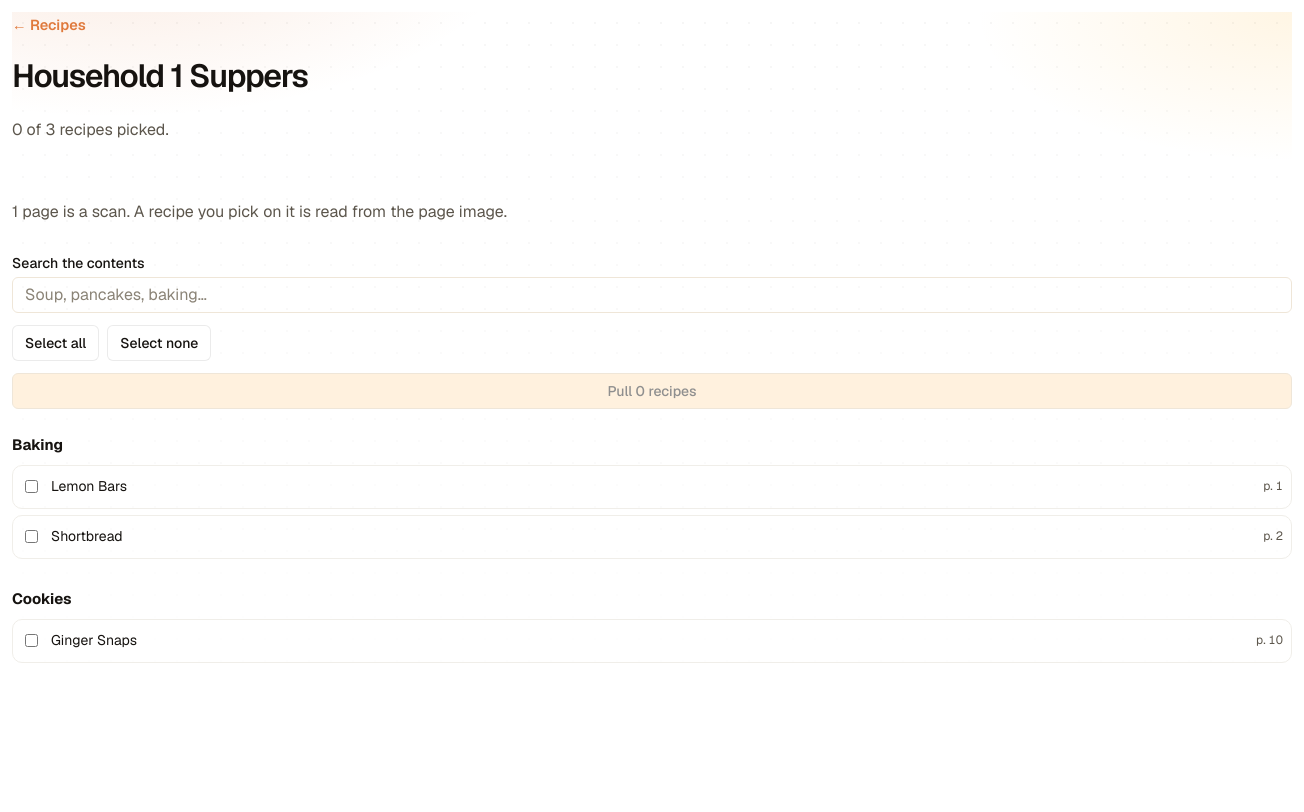
Test: BookContents picks › saves select-all, select-none, and a single toggle
Expected: the text "0 of 3 recipes picked." is shown, [12, 119, 169, 140]
Expected: the text "1 page is a scan. A recipe you pick on it is read from the page image." is shown, [12, 201, 507, 222]
Click the button "Select all" at [56, 343], box [12, 325, 99, 361]
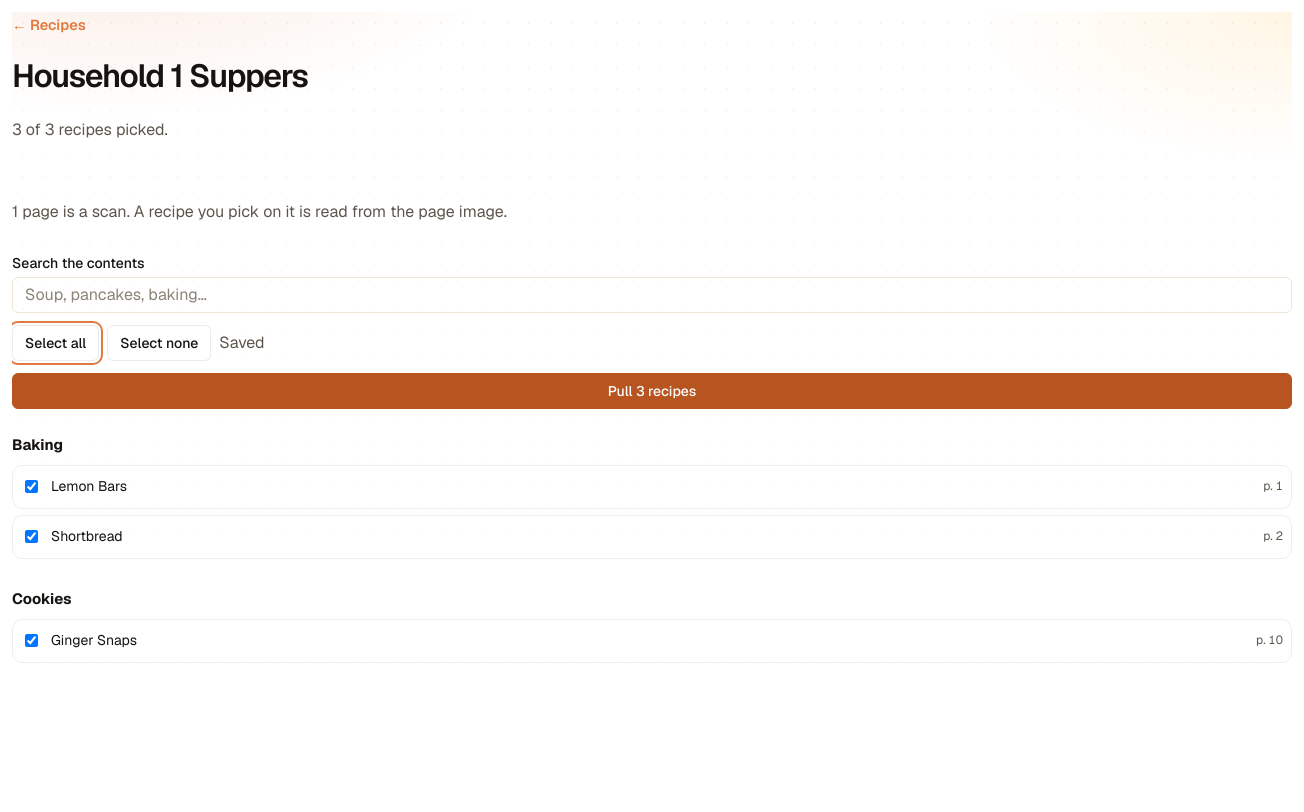
Expected: the text "3 of 3 recipes picked." is shown, [12, 119, 168, 140]
Expected: the text "Saved" is shown, [219, 330, 265, 355]
Expected: the checkbox labelled "Lemon Bars p. 1" is checked, [25, 480, 38, 493]
Click the checkbox labelled "Shortbread p. 2" at [32, 537], box [25, 530, 38, 543]
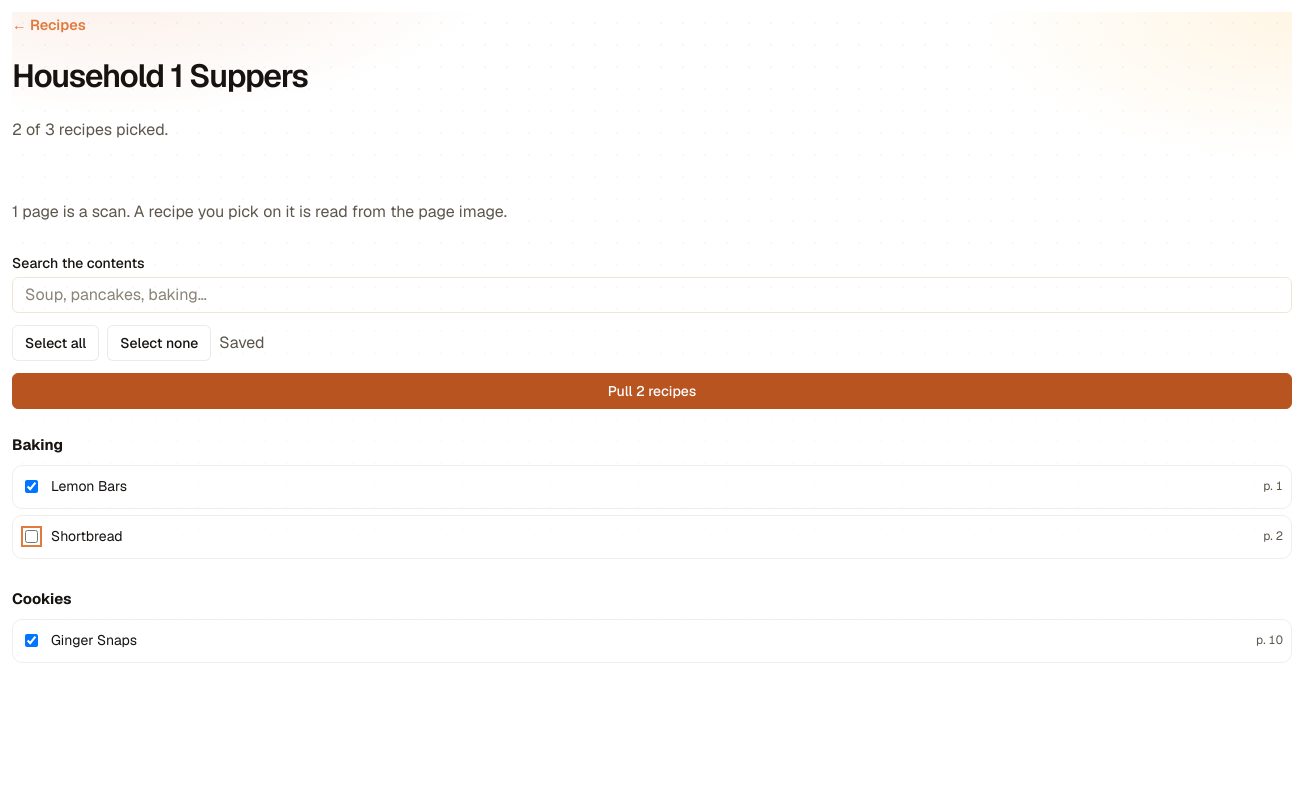
Expected: the checkbox labelled "Shortbread p. 2" is not checked, [25, 530, 38, 543]
Expected: the text "2 of 3 recipes picked." is shown, [12, 119, 168, 140]
Click the button "Select none" at [159, 343], box [107, 325, 211, 361]
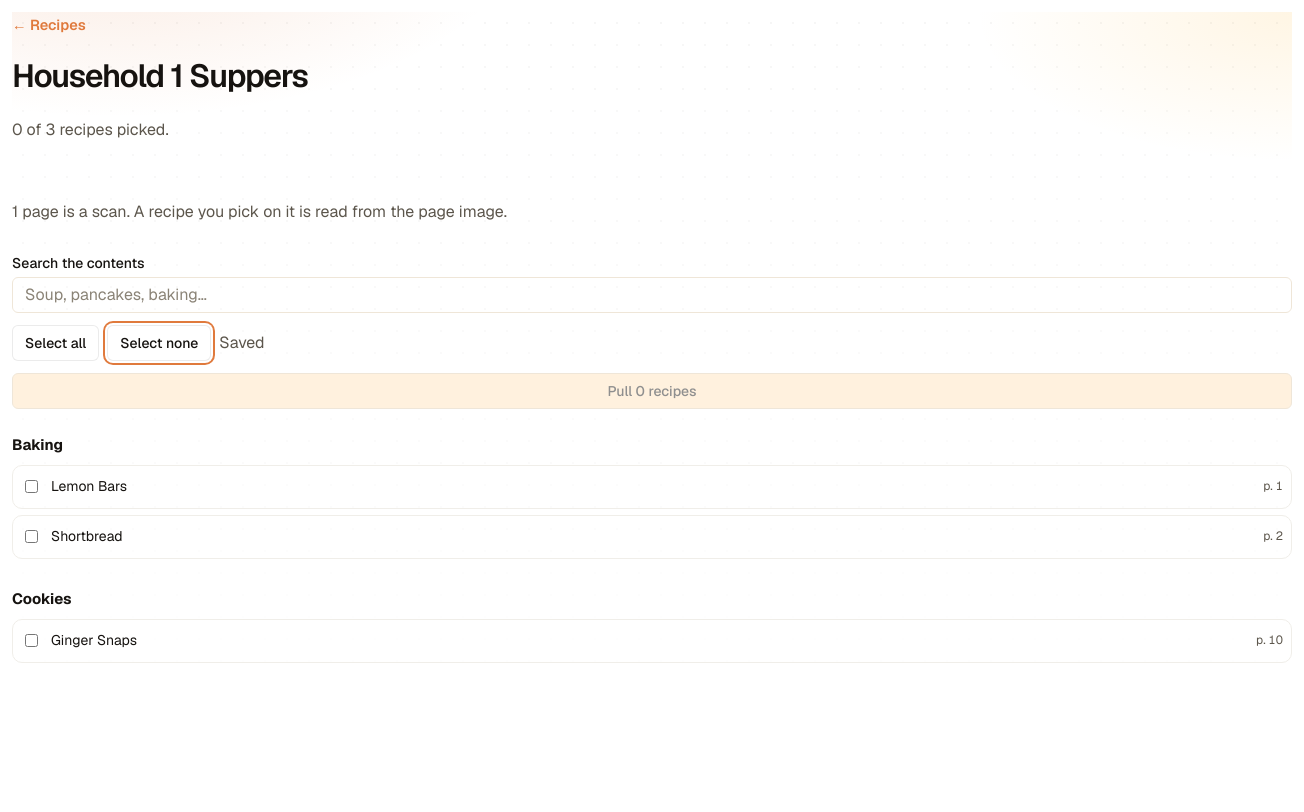
Expected: the text "0 of 3 recipes picked." is shown, [12, 119, 169, 140]
Expected: the button "Pull 0 recipes" is disabled, [12, 373, 1292, 409]
